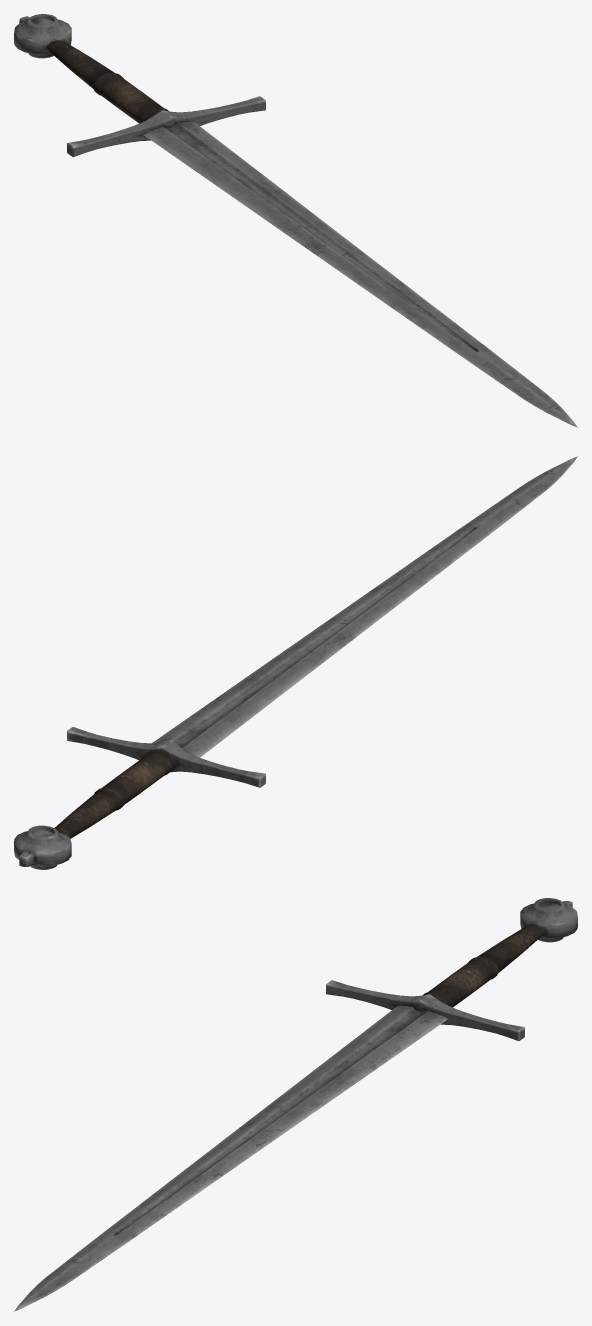
Rendered from longsword.fbx.
3 views of the same model, one above another, from view 1: azimuth 30°, elevation 25°; view 2: azimuth 150°, elevation 25°; view 3: azimuth 330°, elevation 25° (orthographic).
Visible parts, largest first — view 1: WP_A_0200; view 2: WP_A_0200; view 3: WP_A_0200.
Boxes of the visible parts, x1,y1,x2,y2 form: WP_A_0200: (14, 14, 577, 427); WP_A_0200: (14, 456, 577, 869); WP_A_0200: (14, 898, 577, 1311).
Size of the model in its own units: 22.42 by 3.56 by 111.
Materials: 1 (1 with a texture image).
